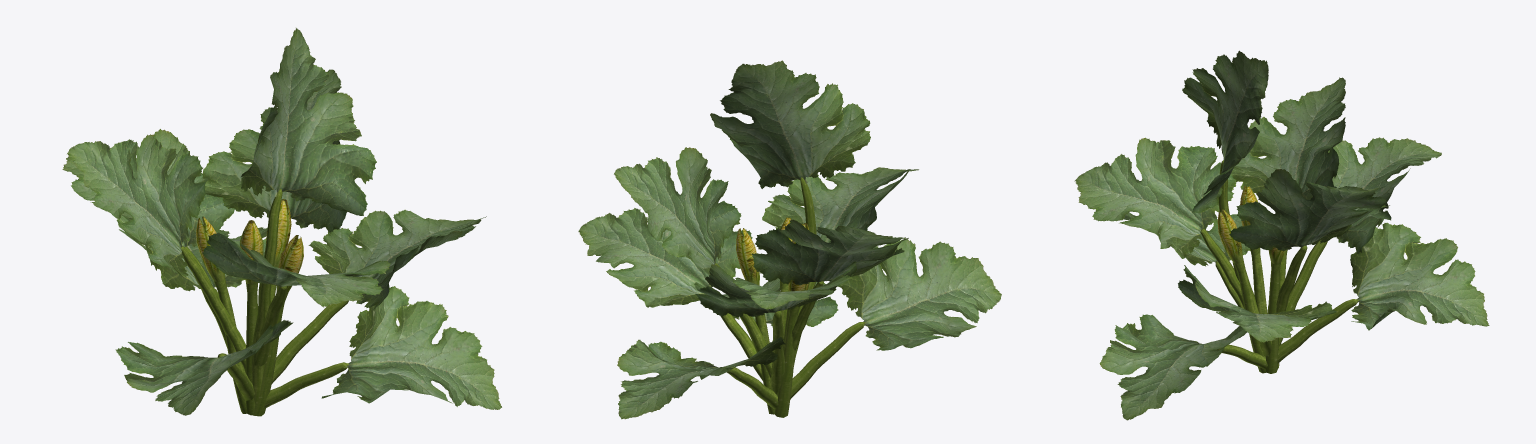
File: courgette_02.dae
The picture shows the model from 3 angles, left to right: view 1: azimuth 30°, elevation 25°; view 2: azimuth 150°, elevation 25°; view 3: azimuth 270°, elevation 25°; orthographic projection. The views are drawn at different scales.
Visible parts, largest first — view 1: VG12_2; view 2: VG12_2; view 3: VG12_2.
Part boxes in pixels (x1,y1,x2,y2): VG12_2: (62,28,501,416); VG12_2: (578,60,1001,419); VG12_2: (1074,50,1489,420).
Size of the model in its own units: 0.3256 by 0.3526 by 0.2888.
Materials: 3 (3 with a texture image).
